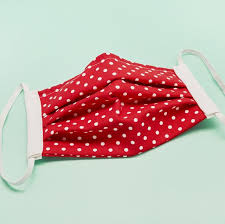cloth_mask: (2, 47, 225, 201)
